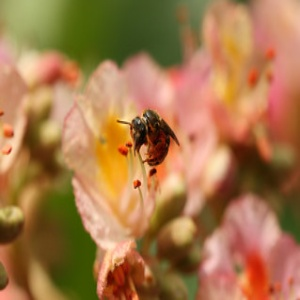bee: (118, 106, 182, 180)
